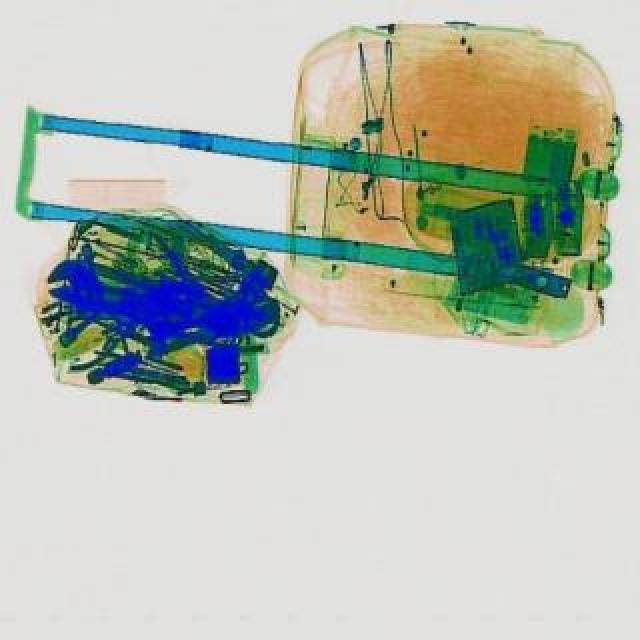scissors: (40, 254, 286, 338)
